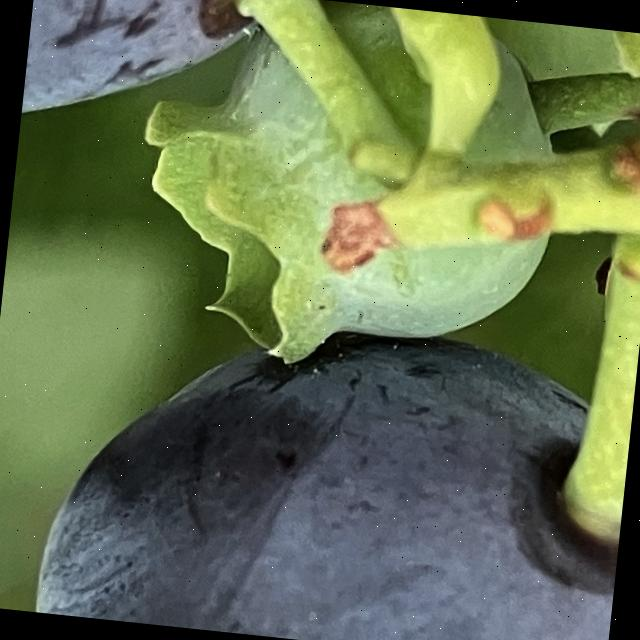Blueberries: (31, 298, 638, 640)
